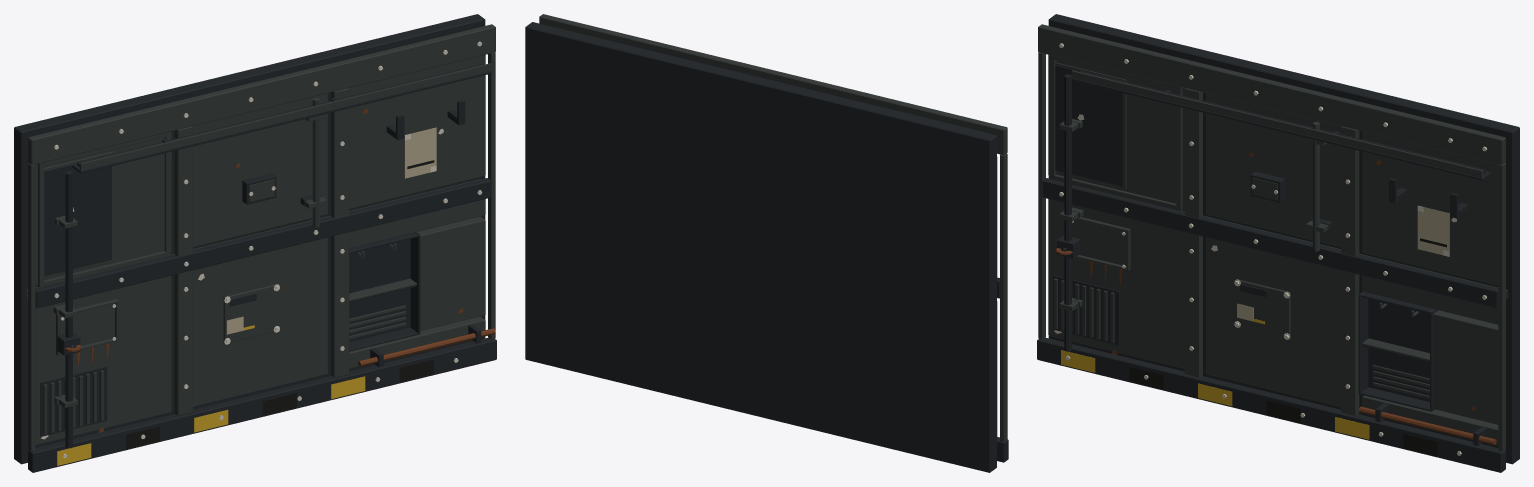
The model's file is airlock_wall_port.glb.
3 views of the same model, side by side, from view 1: azimuth 30°, elevation 25°; view 2: azimuth 150°, elevation 25°; view 3: azimuth 330°, elevation 25° (orthographic).
Parts seen in each view (by area): view 1: airlock_wall_port; view 2: airlock_wall_port; view 3: airlock_wall_port.
Boxes of the visible parts, x1=… form: airlock_wall_port: x1=14, y1=14, x2=496, y2=472; airlock_wall_port: x1=525, y1=14, x2=1008, y2=472; airlock_wall_port: x1=1037, y1=14, x2=1519, y2=472.
Size of the model in its own units: 3.8 by 2.6 by 0.414.
